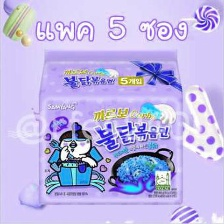snack: (27, 44, 191, 209)
